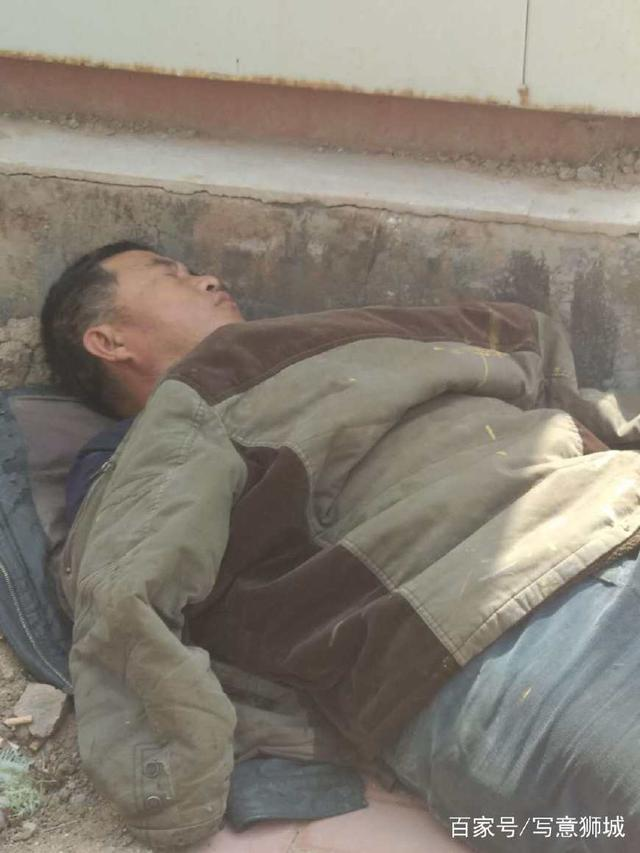fall: (9, 235, 640, 853)
